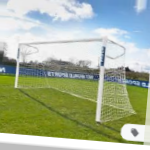goals: (13, 34, 137, 123)
